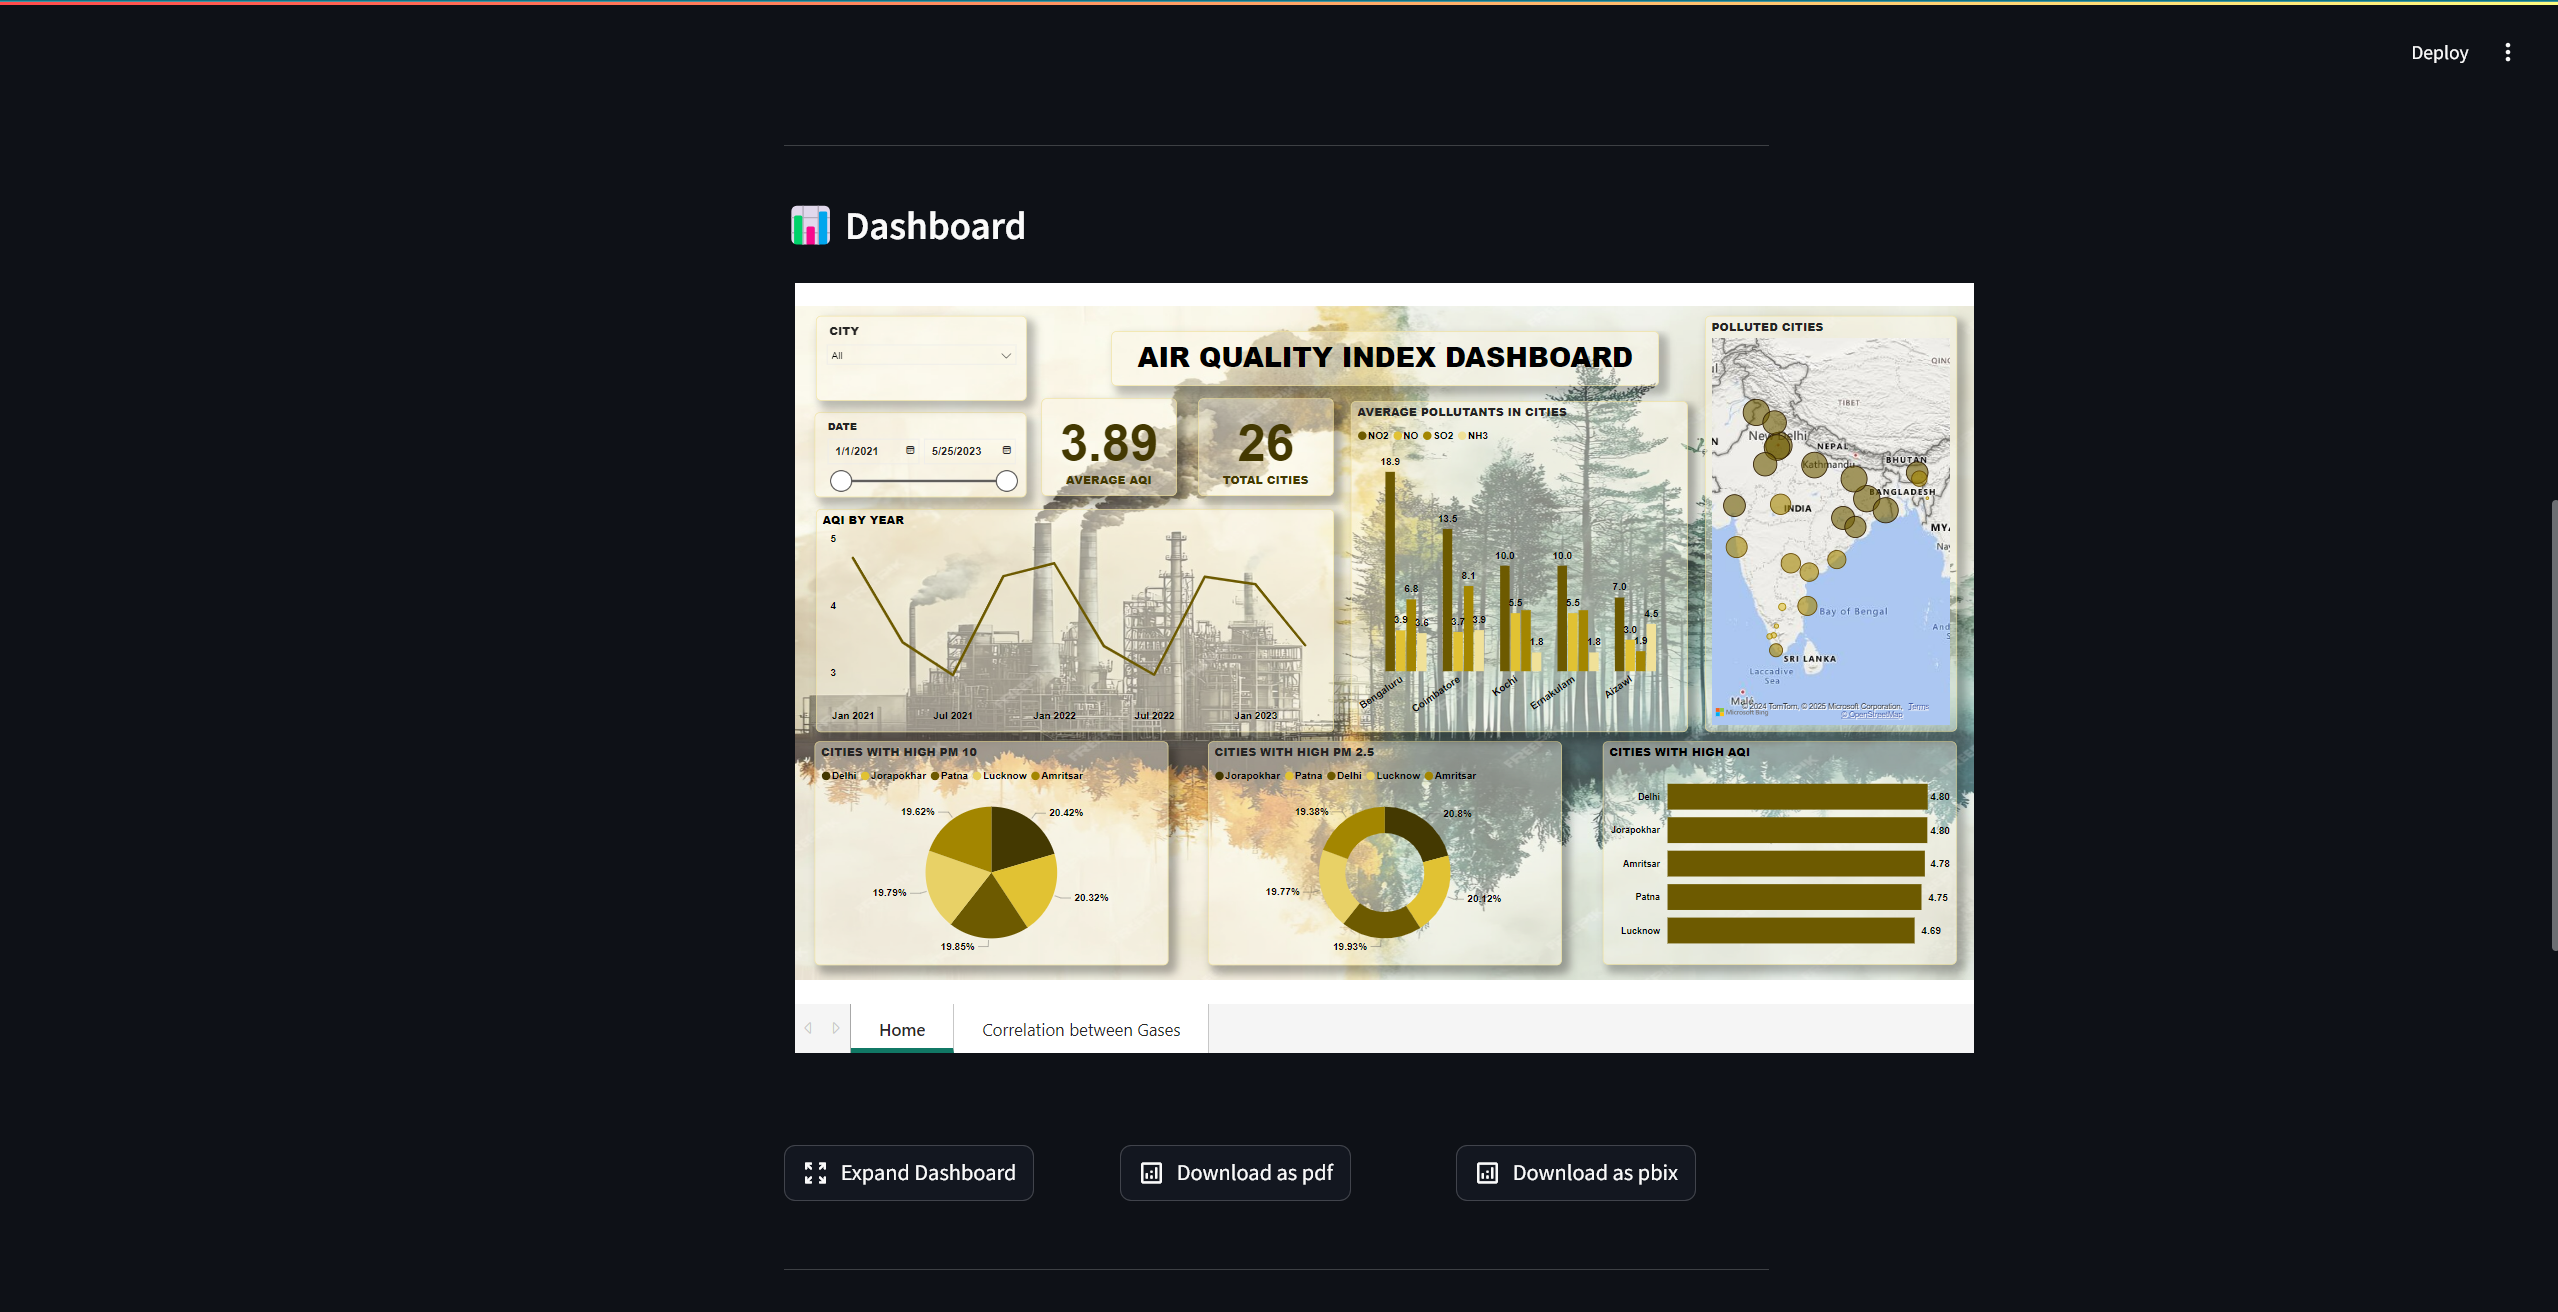

Layout of this report page (visuals, bound fields, positions):
{"tool":"powerbi","page":{"name":"Home","canvas":[1400,800],"ordinal":0},"visuals":[{"type":"lineChart","title":"AQI BY YEAR","fields":{"Category":["AQI_Cleaned.DATE.Variation.Date Hierarchy.Year","AQI_Cleaned.DATE.Variation.Date Hierarchy.Quarter","AQI_Cleaned.DATE.Variation.Date Hierarchy.Month","AQI_Cleaned.DATE.Variation.Date Hierarchy.Day"],"Y":["Avg(AQI_Cleaned.AQI)"]},"box":[24.5,240.8,614.9,265.3],"z":4000},{"type":"textbox","box":[375.5,29.9,650.3,65.3],"z":5000},{"type":"card","fields":{"Values":["Avg(AQI_Cleaned.AQI)"]},"box":[292.5,110.2,160.5,115.6],"z":6000},{"type":"clusteredBarChart","title":"CITIES WITH HIGH AQI","fields":{"Category":["AQI_Cleaned.CITY"],"Y":["Avg(AQI_Cleaned.AQI)"]},"box":[959.1,516.9,420.4,265.3],"z":7000},{"type":"card","title":"TOTAL CITIES","fields":{"Values":["Count(AQI_Cleaned.CITY)"]},"box":[478.8,110.2,160.5,115.6],"z":8000},{"type":"pieChart","title":"CITIES WITH HIGH PM 10","fields":{"Category":["AQI_Cleaned.CITY"],"Y":["Avg(AQI_Cleaned.PM10)"]},"box":[23.2,516.4,420,265.7],"z":9000},{"type":"donutChart","title":"CITIES WITH HIGH PM 2.5","fields":{"Category":["AQI_Cleaned.CITY"],"Y":["Avg(AQI_Cleaned.PM2.5)"]},"box":[491.1,517.1,420,265.7],"z":10000},{"type":"slicer","fields":{"Values":["AQI_Cleaned.DATE"]},"box":[22.7,125.7,251.7,100.7],"z":12000},{"type":"slicer","fields":{"Values":["AQI_Cleaned.CITY"]},"box":[24.5,12.2,250.3,100.7],"z":13000},{"type":"clusteredColumnChart","title":"AVERAGE POLLUTANTS IN CITIES","fields":{"Category":["AQI_Cleaned.CITY"],"Y":["Avg(AQI_Cleaned.NO2)","Avg(AQI_Cleaned.NO)","Avg(AQI_Cleaned.SO2)","Avg(AQI_Cleaned.NH3)"]},"box":[659.8,112.9,399.9,393.1],"z":14000},{"type":"map","title":"POLLUTED CITIES","fields":{"Category":["AQI_Cleaned.CITY"],"Size":["Avg(AQI_Cleaned.AQI)"]},"box":[1080.1,12.2,299.3,493.8],"z":15000}]}

Visuals, with their boxes on the page's 1400x800 design canvas (x1, y1, x2, y2). These are canvas units, not pixel positions in the 2558x1312 screenshot, which may show the page scaled, cropped or inside an application window:
"AQI BY YEAR" lineChart: x1=24 y1=241 x2=639 y2=506
textbox: x1=376 y1=30 x2=1026 y2=95
card - Avg(AQI_Cleaned.AQI): x1=292 y1=110 x2=453 y2=226
"CITIES WITH HIGH AQI" clusteredBarChart: x1=959 y1=517 x2=1380 y2=782
"TOTAL CITIES" card: x1=479 y1=110 x2=639 y2=226
"CITIES WITH HIGH PM 10" pieChart: x1=23 y1=516 x2=443 y2=782
"CITIES WITH HIGH PM 2.5" donutChart: x1=491 y1=517 x2=911 y2=783
slicer - AQI_Cleaned.DATE: x1=23 y1=126 x2=274 y2=226
slicer - AQI_Cleaned.CITY: x1=24 y1=12 x2=275 y2=113
"AVERAGE POLLUTANTS IN CITIES" clusteredColumnChart: x1=660 y1=113 x2=1060 y2=506
"POLLUTED CITIES" map: x1=1080 y1=12 x2=1379 y2=506
